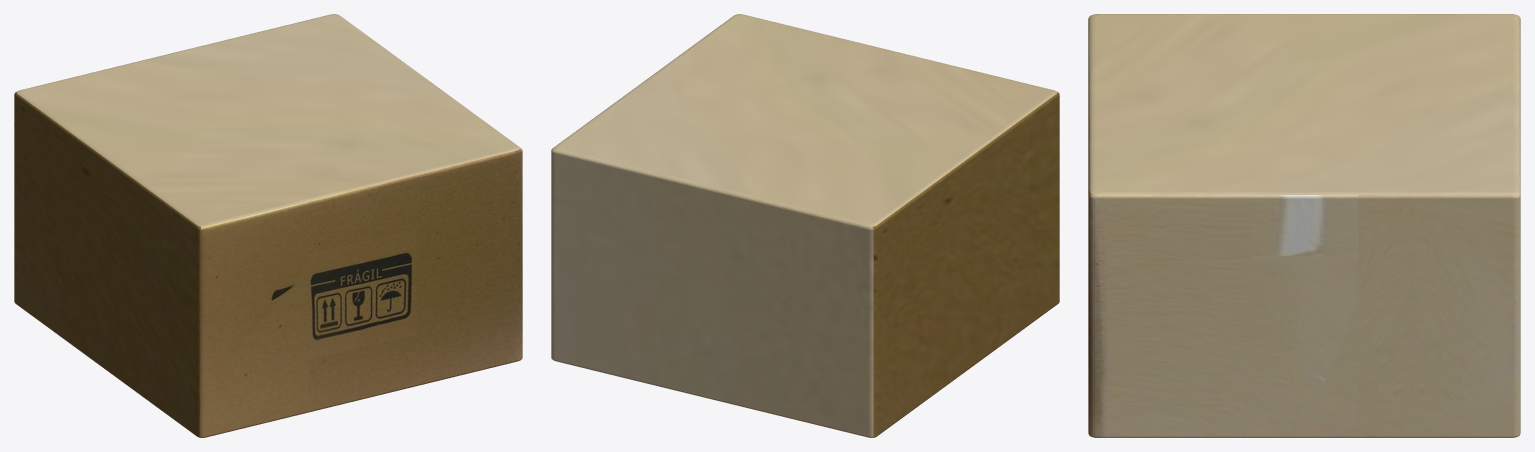
Rendered from parcel-medium.glb.
3 renders of one model, left to right at view 1: azimuth 30°, elevation 25°; view 2: azimuth 150°, elevation 25°; view 3: azimuth 270°, elevation 25°, orthographic. The views are drawn at different scales.
Parts seen in each view (by area): view 1: Box Packaging.001; view 2: Box Packaging.001; view 3: Box Packaging.001.
Part boxes in pixels (x1,y1,x2,y2): Box Packaging.001: [14, 14, 522, 437]; Box Packaging.001: [551, 14, 1059, 437]; Box Packaging.001: [1088, 14, 1520, 437].
Size of the model in its own units: 0.48 by 0.3 by 0.48.
1 material, 1 textured.
